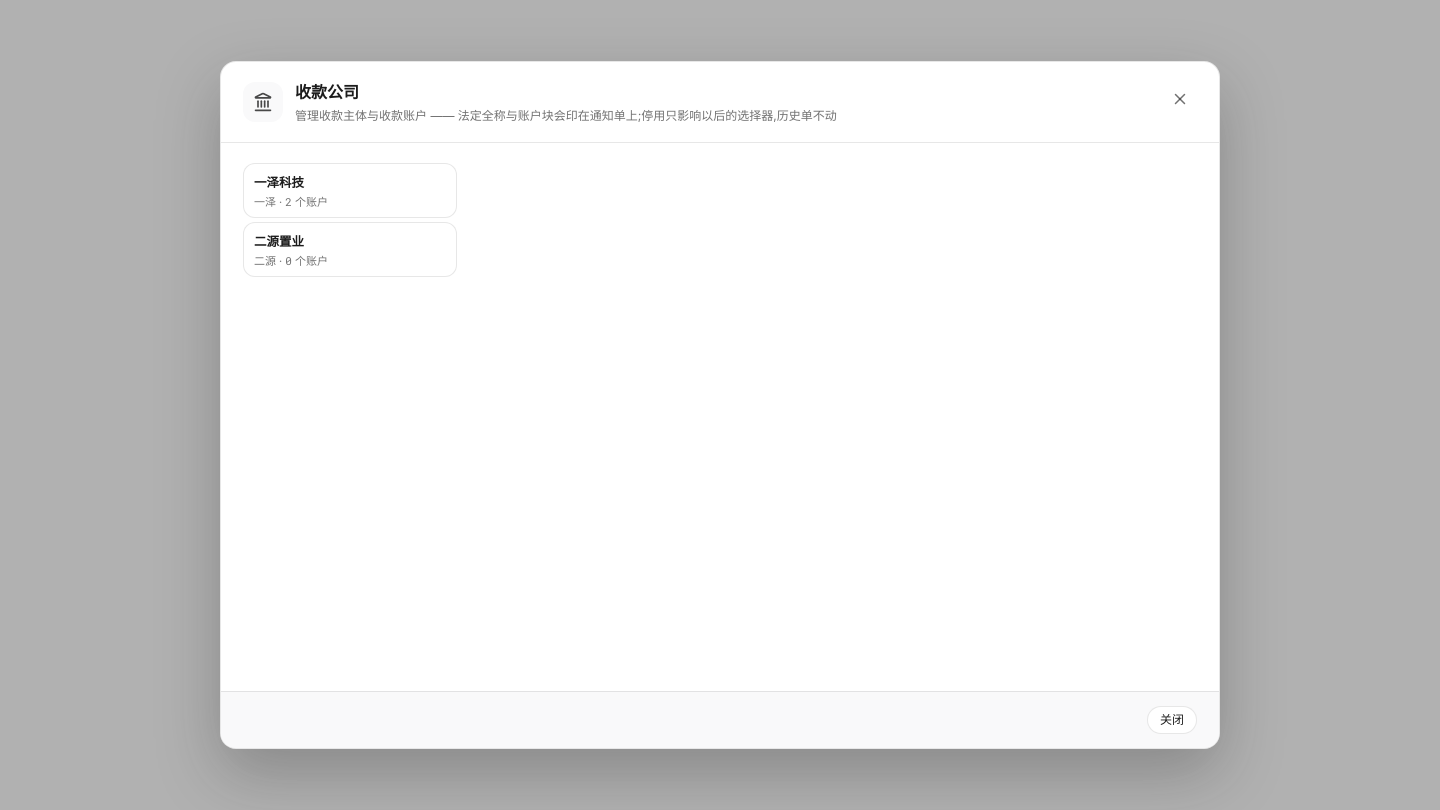
Test: §5.6 第 3 类 · CompanyBookWindow 两级推进(弹窗内部不并置) › ❗S 档第二级:选一家之后才渲染内容,且列表让位;返回钮在弹窗顶栏里
What coordinates should you click on to do the following:
click the button with class "cw-item" showing "二源置业 二源 · 0 个账户"
I would click on:
 (350, 249)
Its box is top-left (243, 222), bottom-right (457, 277).
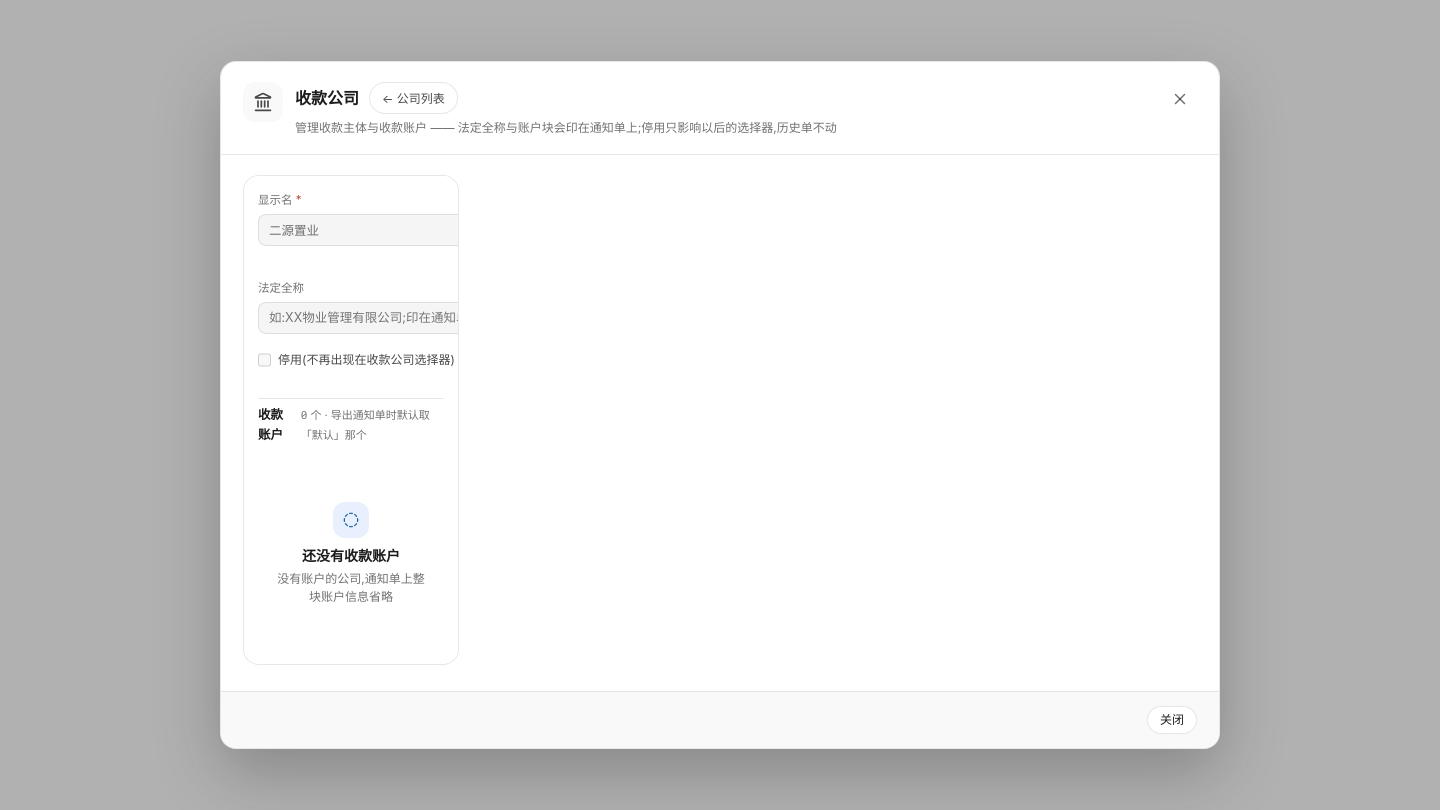
Now the element with class "cw-pane" is shown, box top-left (243, 175), bottom-right (459, 665)
Now the field labelled "显示名 *" holds "二源置业", box top-left (258, 214), bottom-right (459, 246)
Now the button with class "cw-back" is shown
What coordinates should you click on to do the following:
click the button with class "cw-back"
I would click on:
 (413, 98)
Its box is top-left (369, 82), bottom-right (458, 114).
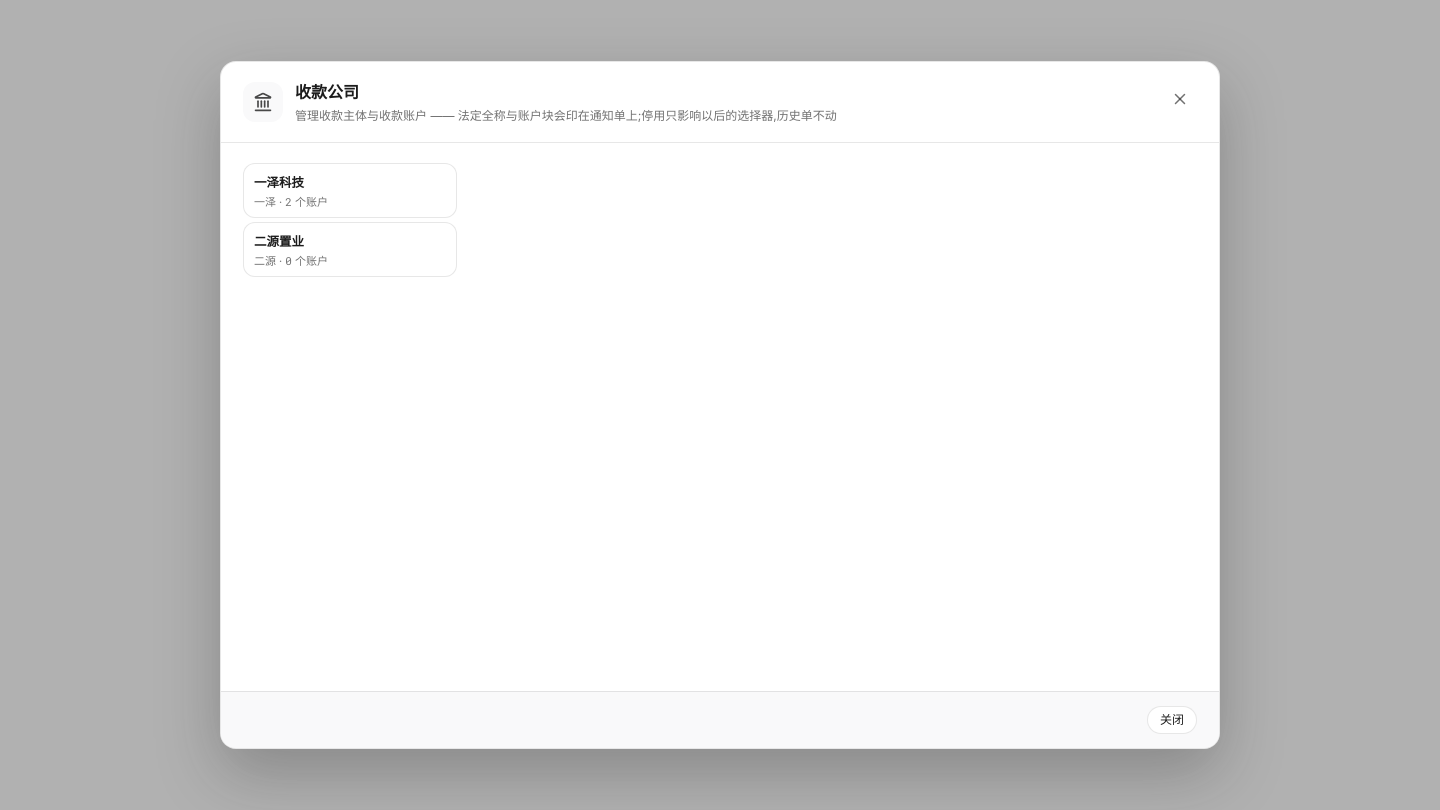
Now the element with class "cw-list" is shown, box top-left (243, 163), bottom-right (457, 277)
